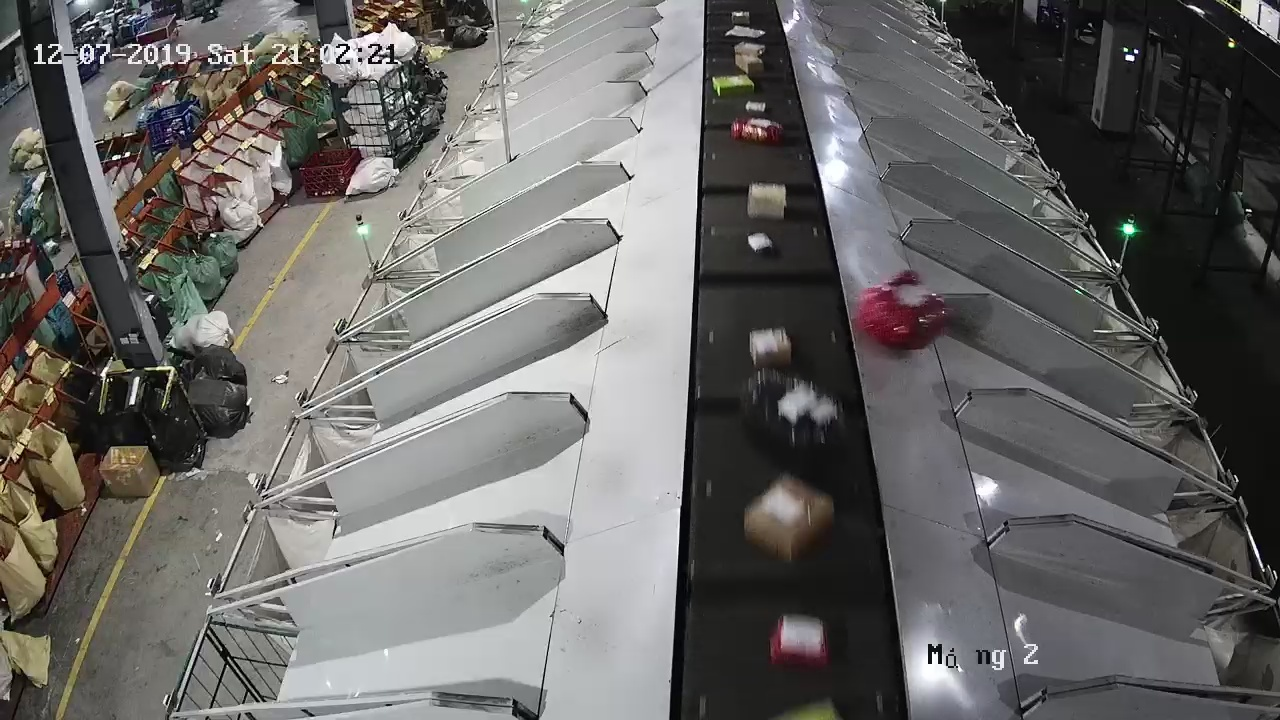parcel: (858, 268, 946, 351)
